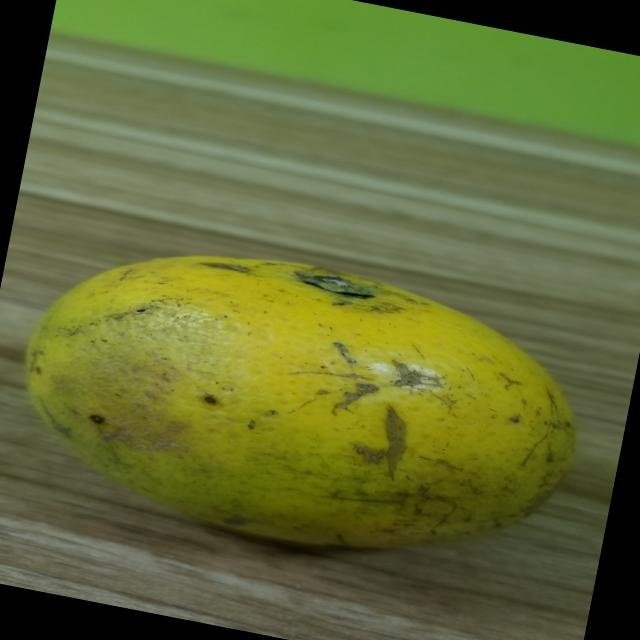agrume: (0, 209, 615, 608)
